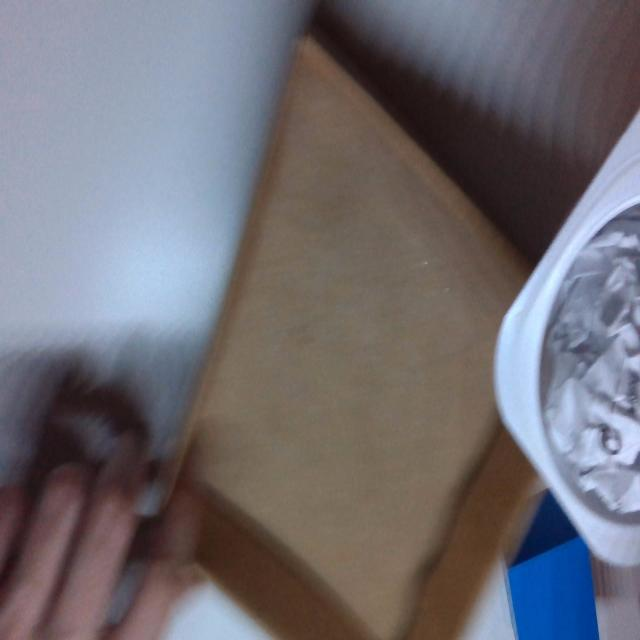Cardboard: (172, 16, 555, 640)
Paper: (549, 219, 637, 518)
